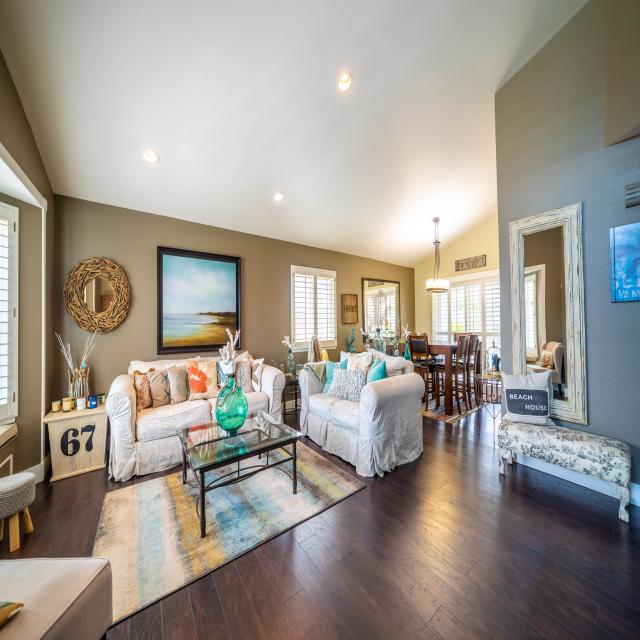floor: (100, 406, 640, 640), (0, 451, 183, 560)
wall: (52, 193, 415, 405), (495, 0, 640, 485), (0, 48, 54, 417), (0, 192, 42, 475), (439, 216, 499, 278), (414, 255, 435, 340), (455, 254, 486, 271), (501, 373, 507, 422), (45, 423, 51, 457), (0, 459, 10, 479), (433, 254, 437, 279), (438, 253, 441, 279), (437, 254, 438, 278)
